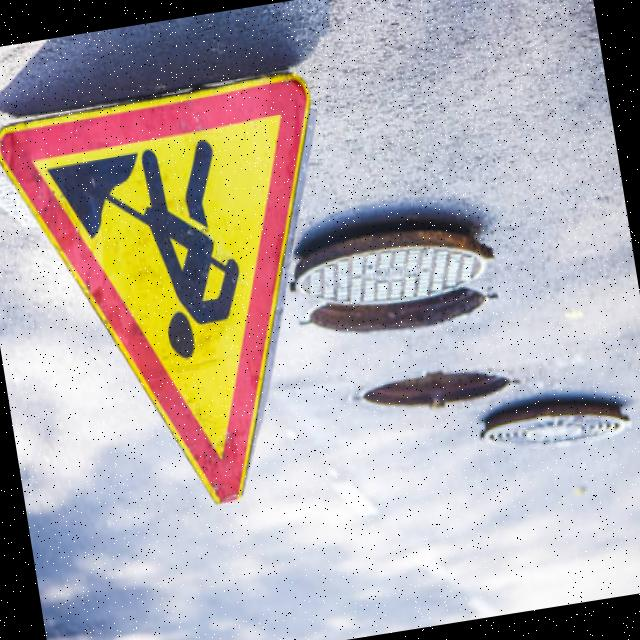road_work: (0, 64, 369, 537)
